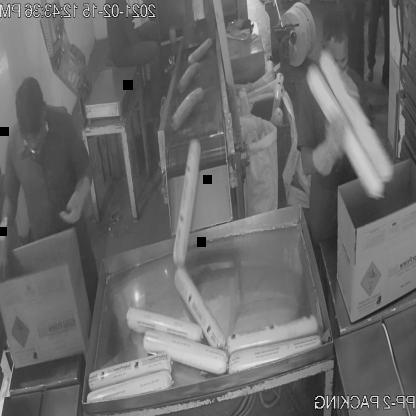glove: (51, 164, 94, 241), (310, 117, 352, 182), (0, 209, 13, 287)
